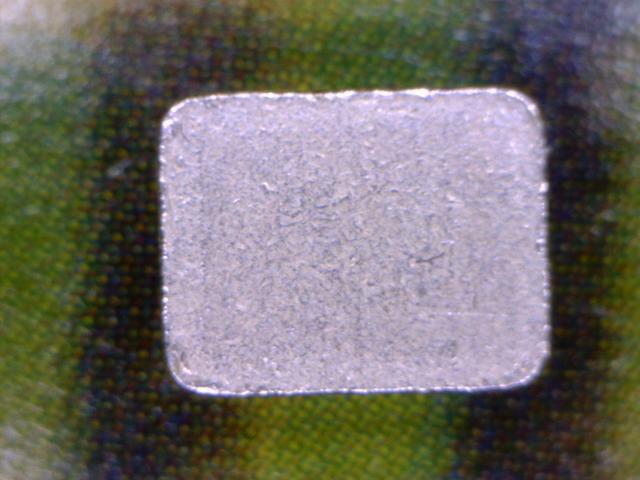ok: (157, 83, 554, 404)
